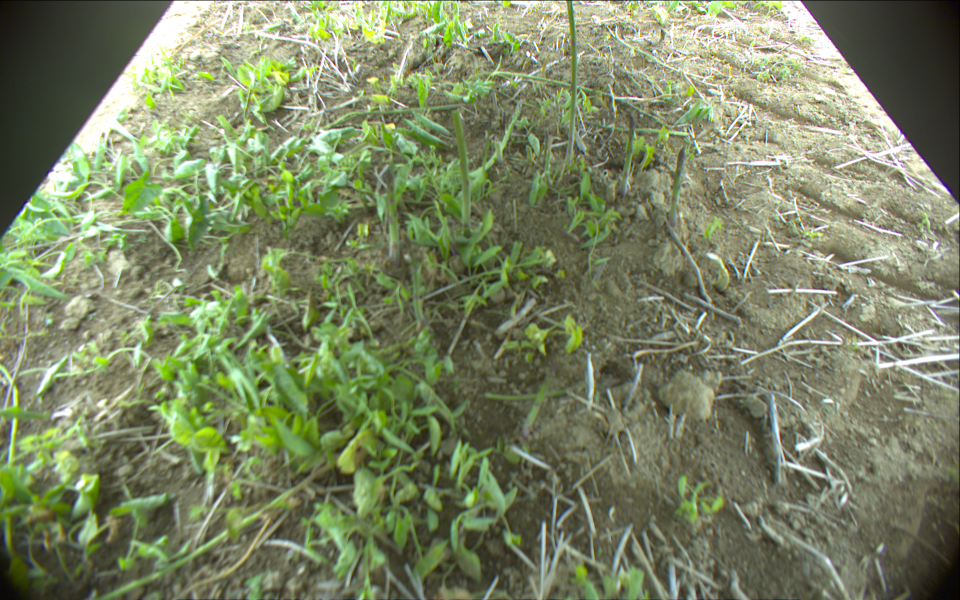aspa: (489, 66, 659, 121), (523, 358, 563, 440), (561, 1, 578, 176), (449, 110, 472, 224), (380, 171, 402, 259), (666, 147, 686, 228), (618, 108, 636, 193), (411, 263, 426, 332)
